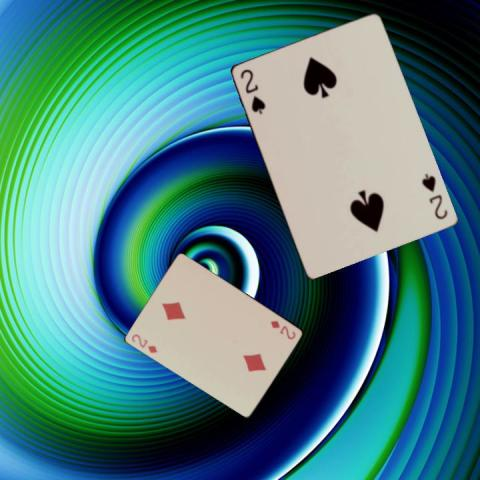2d: (268, 317, 298, 341), (129, 330, 159, 354)
2s: (418, 170, 449, 220), (236, 65, 266, 116)
